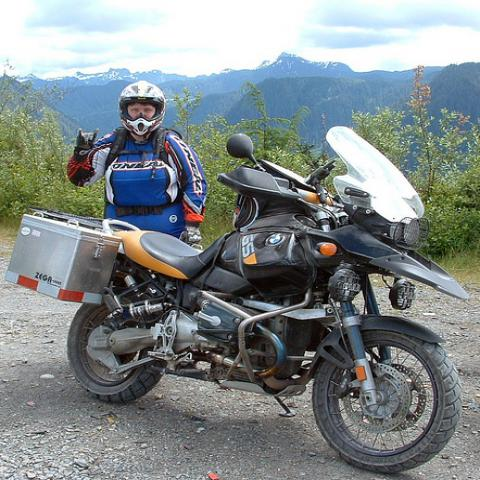motorcycle: (61, 118, 471, 476)
